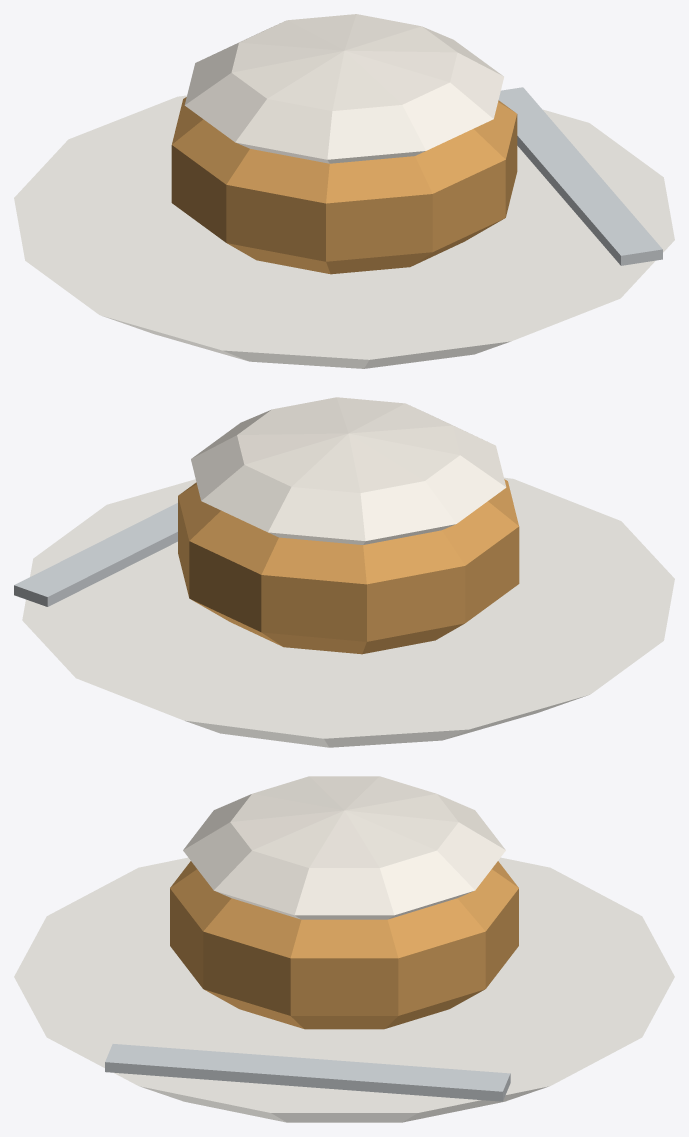
The model's file is pastry_plate.glb.
The picture shows the model from 3 angles, top to bottom: view 1: azimuth 30°, elevation 25°; view 2: azimuth 150°, elevation 25°; view 3: azimuth 270°, elevation 25°; orthographic projection.
Parts seen in each view (by area): view 1: PastryPlate; view 2: PastryPlate; view 3: PastryPlate.
Boxes of the visible parts, <box> form: PastryPlate: <box>14,14,674,368</box>; PastryPlate: <box>14,397,674,747</box>; PastryPlate: <box>14,776,674,1122</box>.
Bounding box in the file's own units: 0.1755 × 0.062 × 0.18.
